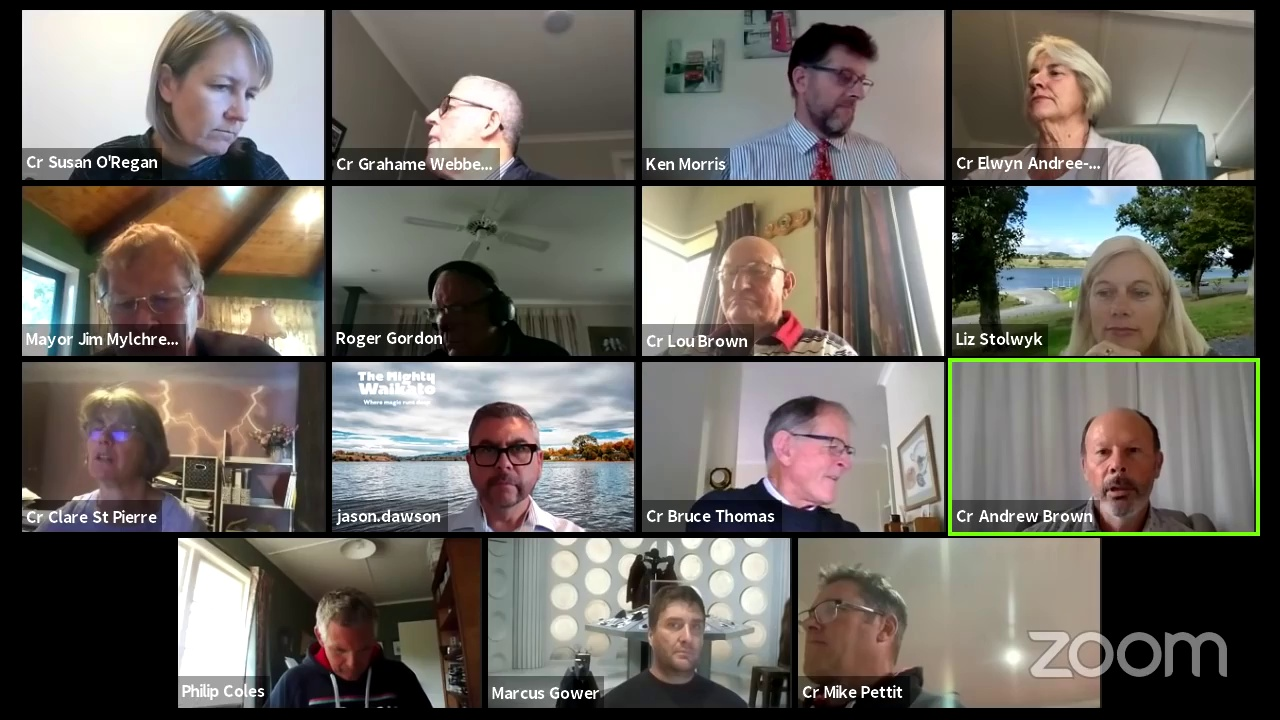Distracted: (776, 23, 883, 137), (422, 60, 526, 175), (799, 566, 902, 680), (753, 400, 860, 508), (412, 262, 524, 353), (1017, 30, 1104, 142), (303, 592, 392, 688)
Not Distracted: (144, 19, 277, 155), (452, 398, 562, 507), (1072, 410, 1177, 520), (1081, 234, 1174, 350), (93, 233, 199, 334), (60, 391, 170, 488), (702, 234, 792, 330), (643, 585, 716, 670)
